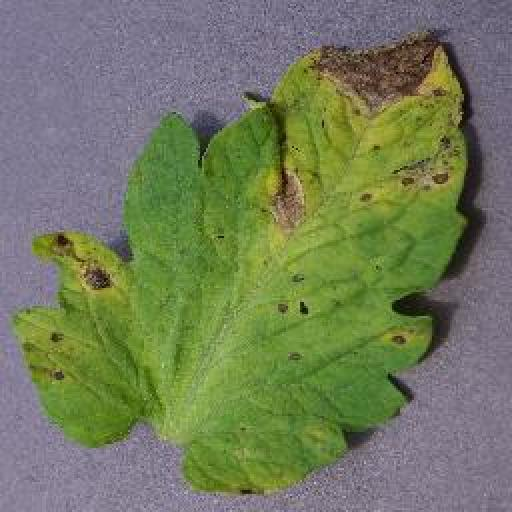Septoria: (14, 28, 471, 499)
